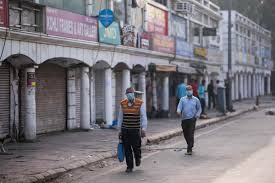mask: (123, 86, 136, 100), (185, 85, 193, 96), (202, 79, 205, 86)
